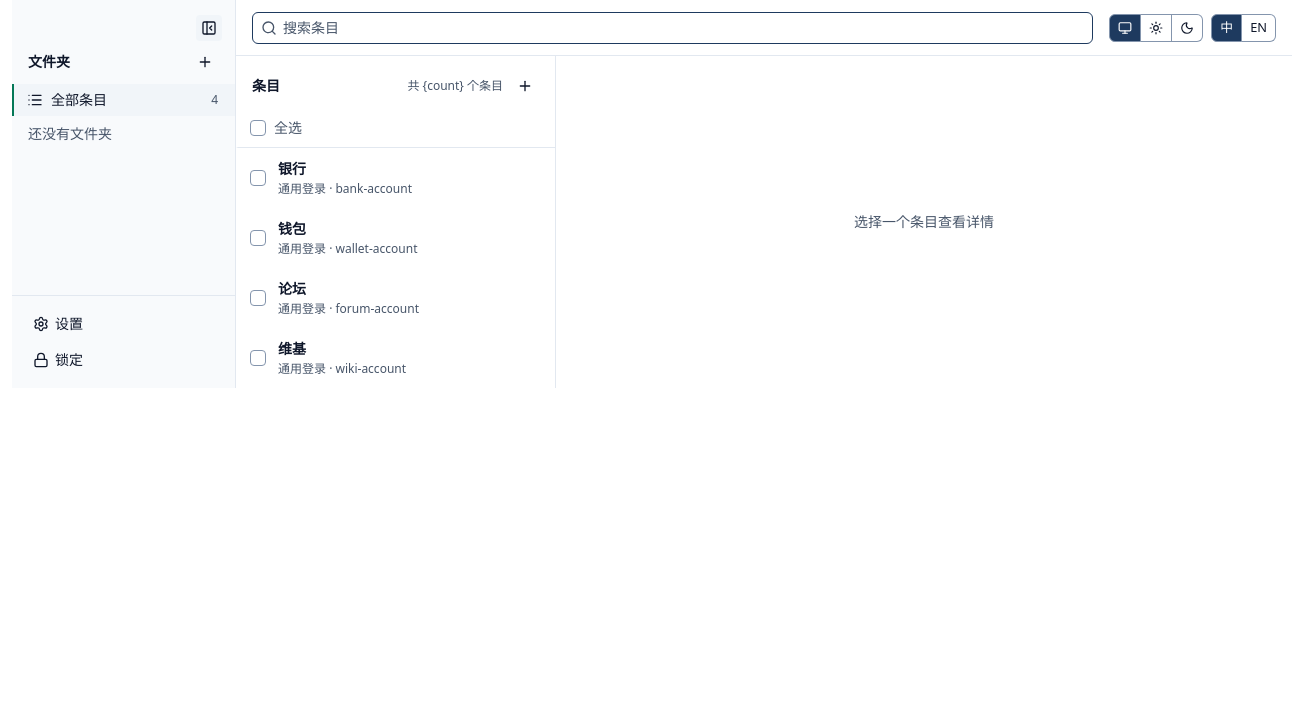
Test case: 手动锁定: 回到解锁页并清空内存里的数据 › 工作区的五个 store 全部重置: 条目, 选中详情, 勾选, 文件夹, 标签, 自定义类型
Click the button "银行 通用登录 · bank-account": (412, 178) x1=270 y1=148 x2=555 y2=208
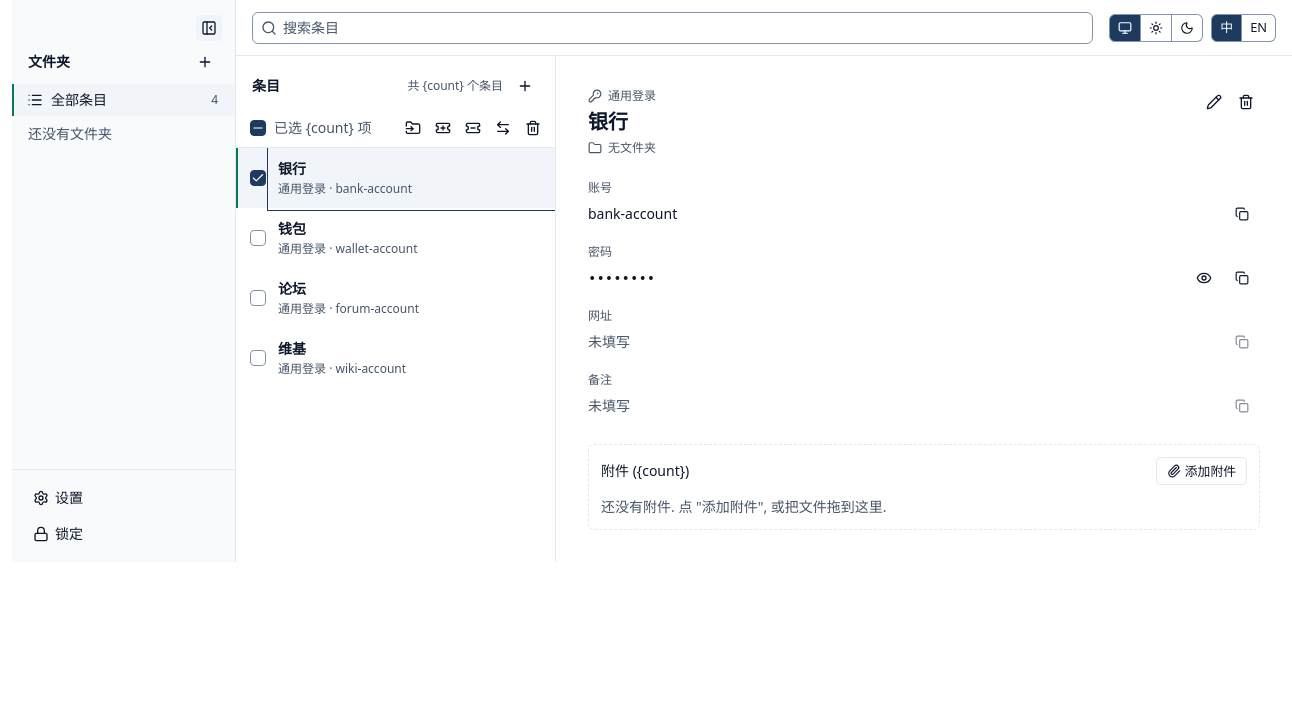
Expected: the heading "银行" is shown, x1=588 y1=108 x2=628 y2=135
Click the button "锁定": (124, 534) x1=24 y1=518 x2=223 y2=550
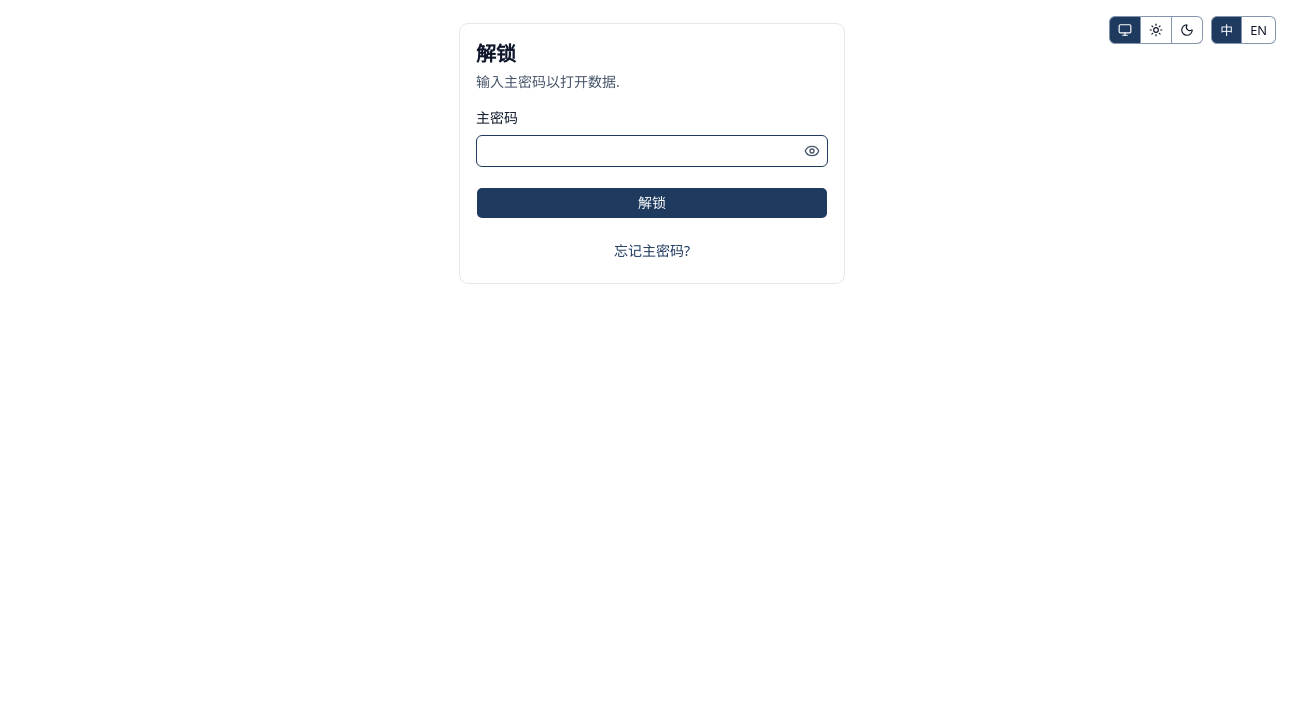
Expected: the heading "解锁" is shown, x1=476 y1=40 x2=516 y2=67
